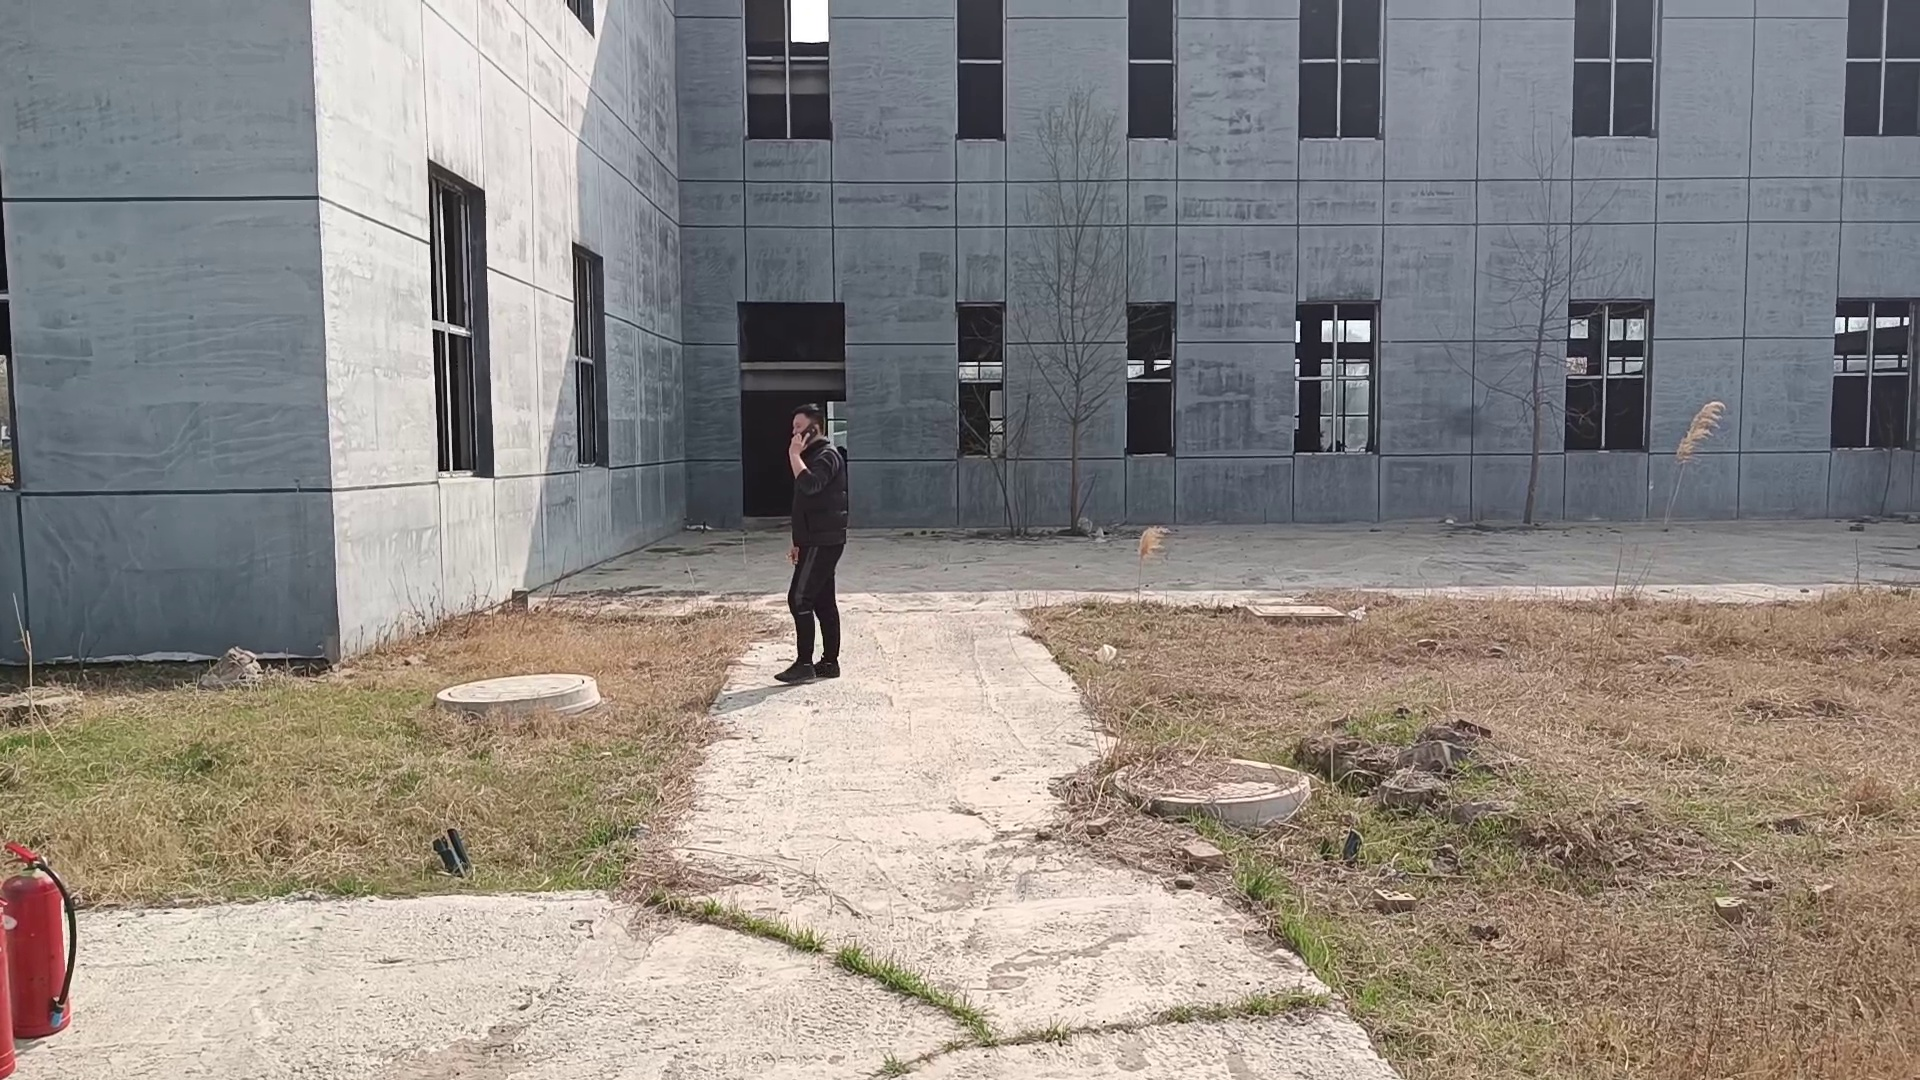phone: (775, 405, 825, 468)
